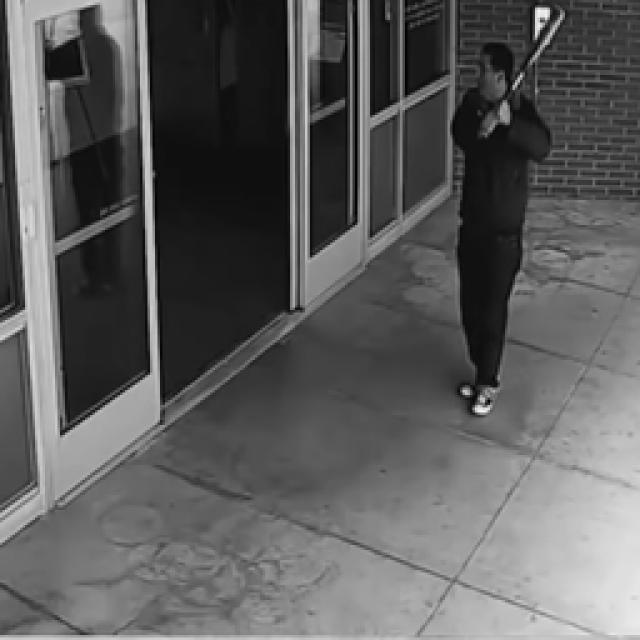Invader: (448, 40, 552, 415), (55, 0, 125, 302)
